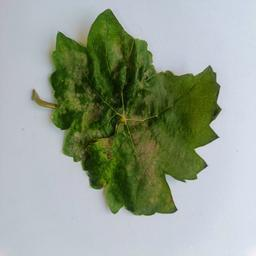Powdery-Mildew: (54, 44, 102, 112), (71, 117, 124, 171), (115, 114, 157, 161), (137, 168, 173, 210), (136, 55, 168, 97), (106, 32, 127, 72)
